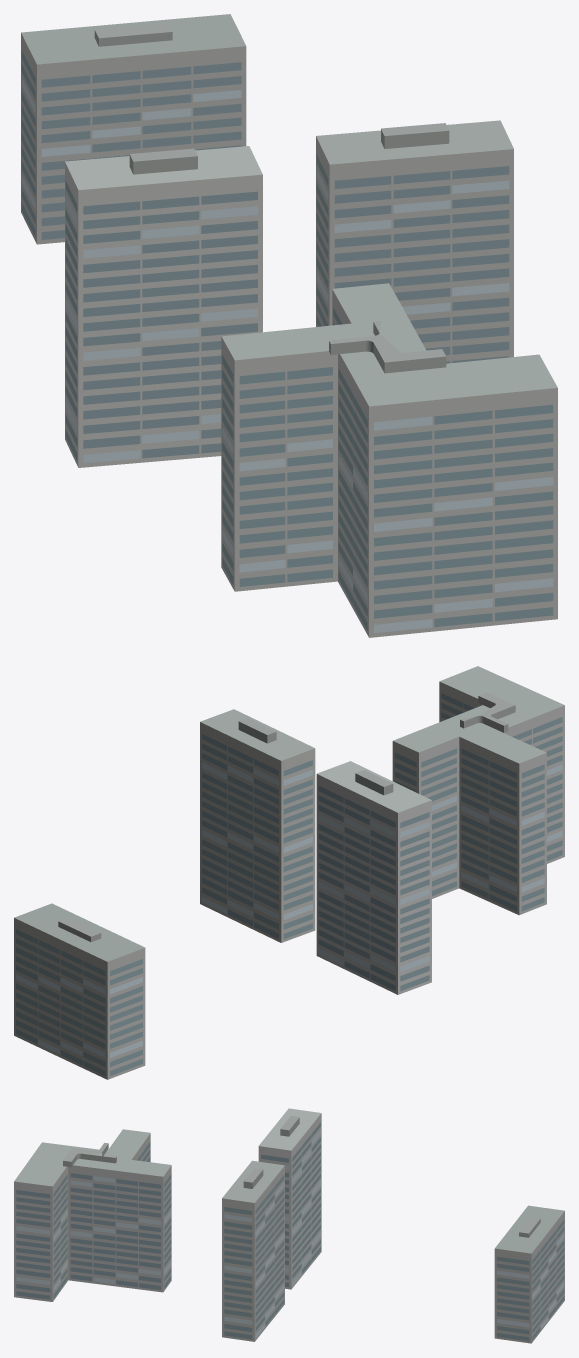
Rendered from apt-a13484501.glb.
3 views of the same model, one above another, from view 1: azimuth 30°, elevation 25°; view 2: azimuth 150°, elevation 25°; view 3: azimuth 270°, elevation 25° (orthographic). The views are drawn at different scales.
Parts seen in each view (by area): view 1: apt-a13484501; view 2: apt-a13484501; view 3: apt-a13484501.
Part boxes in pixels (x1=…): apt-a13484501: x1=21, y1=14, x2=557, y2=637; apt-a13484501: x1=14, y1=666, x2=564, y2=1079; apt-a13484501: x1=14, y1=1108, x2=564, y2=1343.
Size of the model in its own units: 78.59 by 54 by 185.
